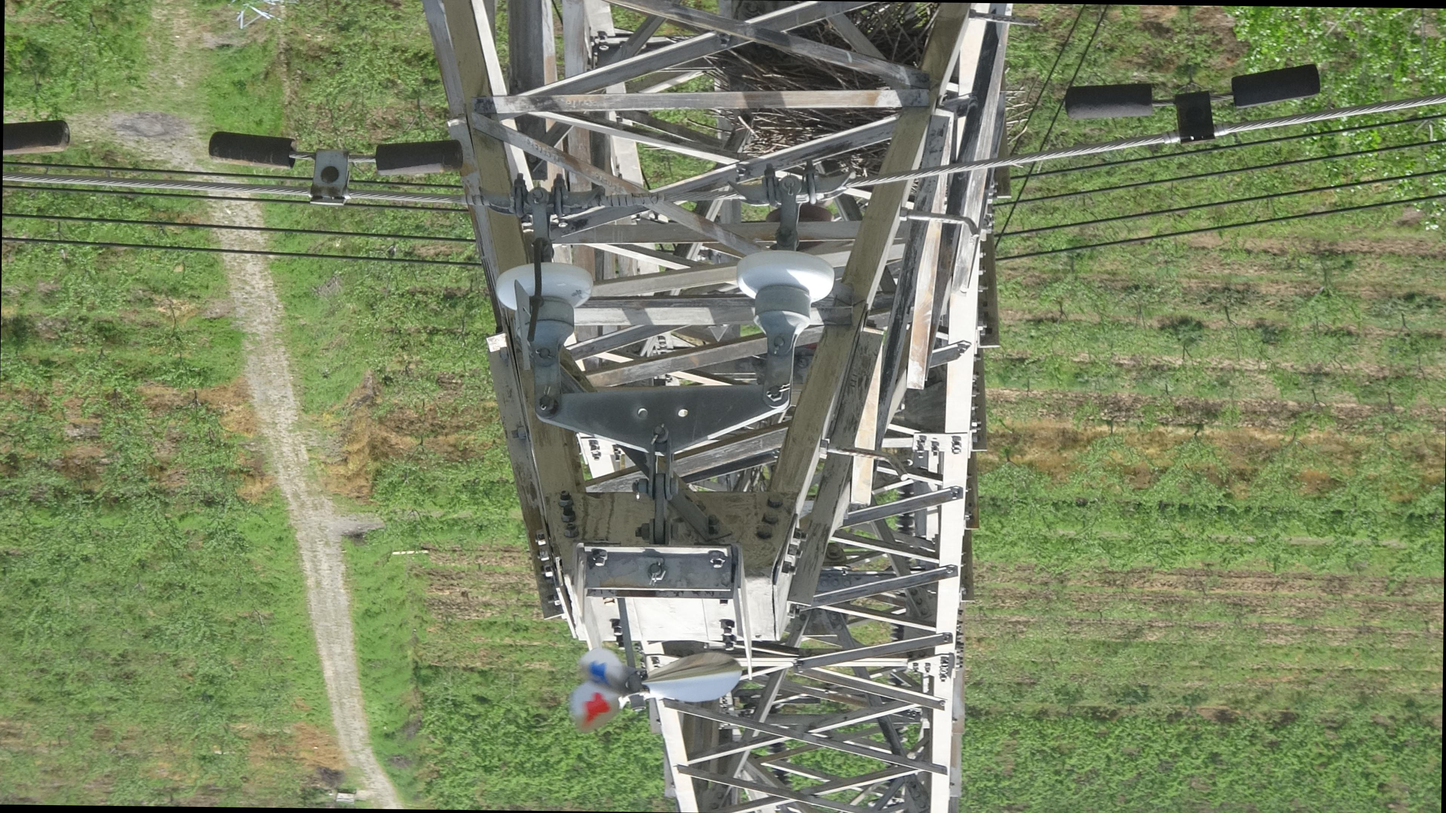damper_defect: (1057, 55, 1328, 153), (203, 124, 467, 213), (0, 114, 76, 198)
